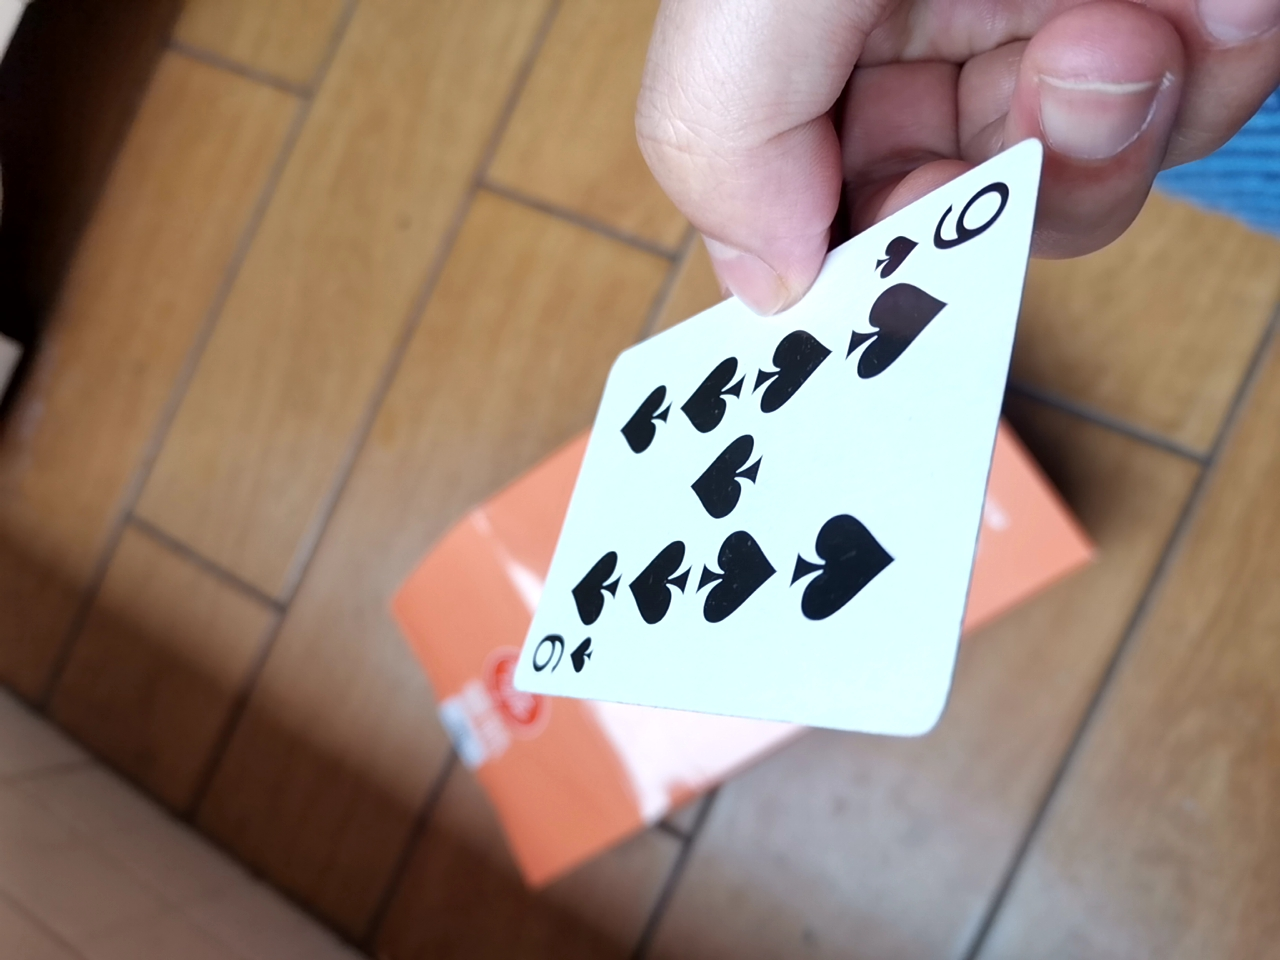ht 9: (499, 149, 1027, 796)
